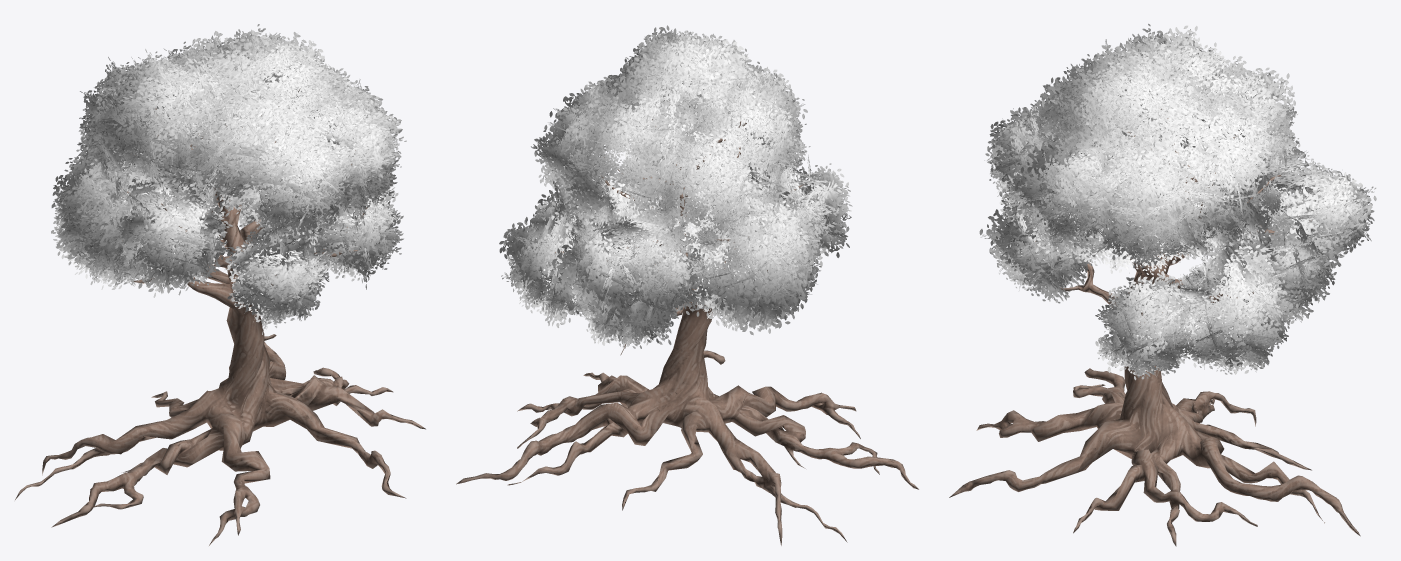
The model's file is OakTree_02.fbx.
3 views of the same model, side by side, from view 1: azimuth 30°, elevation 25°; view 2: azimuth 150°, elevation 25°; view 3: azimuth 270°, elevation 25° (orthographic). The views are drawn at different scales.
Parts seen in each view (by area): view 1: OakTree02_LOD0; view 2: OakTree02_LOD0; view 3: OakTree02_LOD0.
Boxes of the visible parts, x1,y1,x2,y2 form: OakTree02_LOD0: (15,24,425,545); OakTree02_LOD0: (456,25,918,545); OakTree02_LOD0: (949,23,1376,546).
Size of the model in its own units: 1175 by 1335 by 1143.
